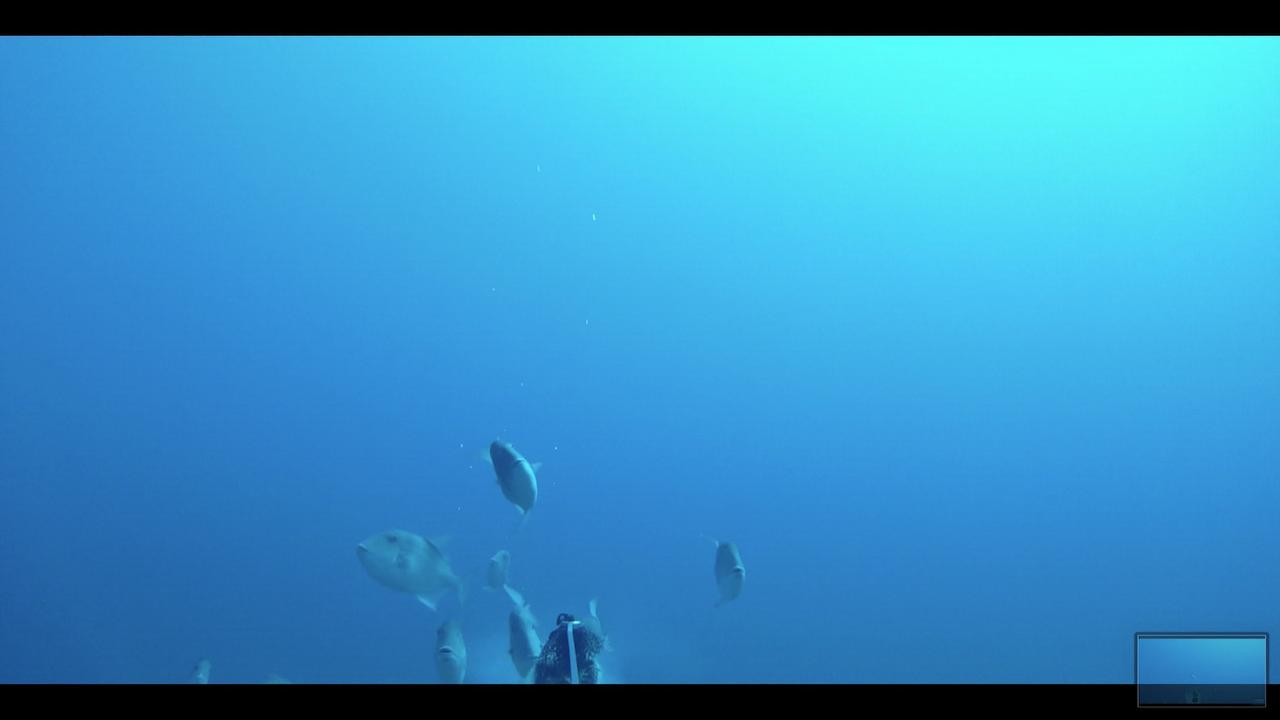balistes: (340, 523, 477, 610), (470, 426, 565, 526), (681, 529, 762, 611), (420, 613, 484, 683)
